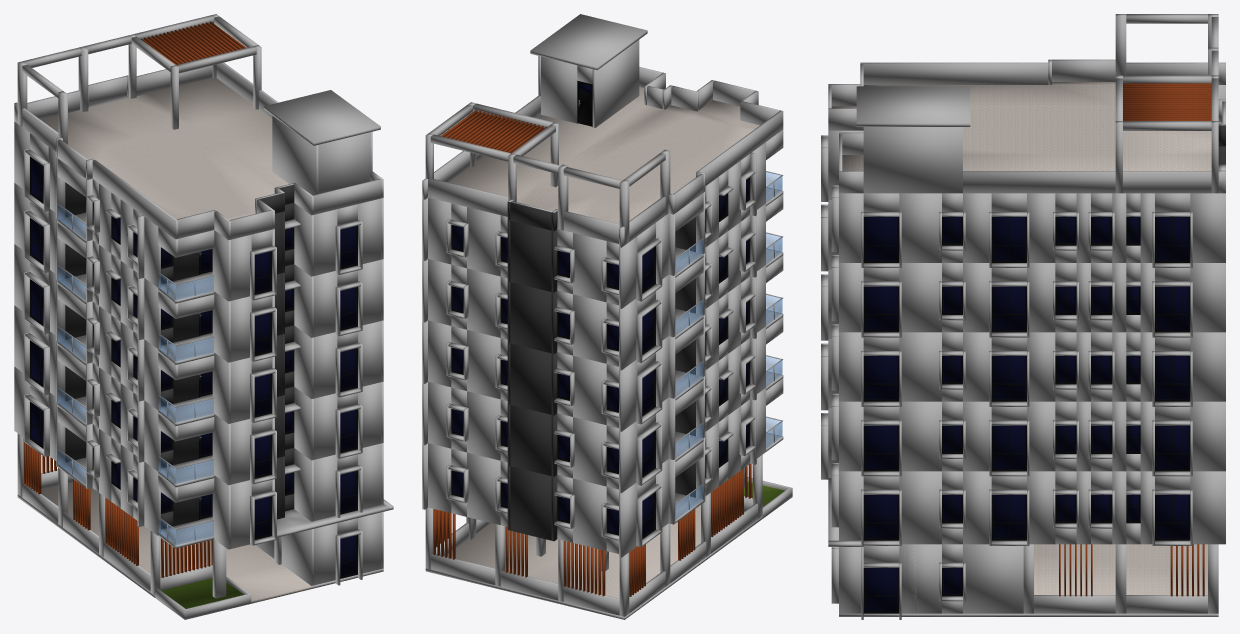
File: build.obj
The picture shows the model from 3 angles, left to right: view 1: azimuth 30°, elevation 25°; view 2: azimuth 150°, elevation 25°; view 3: azimuth 270°, elevation 25°; orthographic projection. The views are drawn at different scales.
Visible parts, largest first — view 1: WALL, ROOF_1, GROUND_FLOOR_1, WINDOW, BALCONY, LOUVER, DOOR, GROUND_FLOOR_2; view 2: WALL, ROOF_1, GROUND_FLOOR_1, LOUVER, WINDOW, BALCONY, ROOF_2; view 3: WALL, ROOF_1, WINDOW, GROUND_FLOOR_1, LOUVER, GROUND_FLOOR_2.
Part boxes in pixels (x1,y1,x2,y2): WALL: [14, 121, 383, 549]; ROOF_1: [14, 62, 383, 240]; GROUND_FLOOR_1: [17, 433, 393, 619]; WINDOW: [30, 156, 357, 539]; BALCONY: [57, 203, 214, 548]; LOUVER: [17, 14, 261, 577]; DOOR: [199, 249, 212, 519]; GROUND_FLOOR_2: [340, 535, 357, 578]; WALL: [422, 142, 765, 557]; ROOF_1: [422, 14, 783, 247]; GROUND_FLOOR_1: [425, 455, 792, 619]; LOUVER: [425, 102, 752, 596]; WINDOW: [451, 177, 750, 539]; BALCONY: [675, 130, 783, 523]; ROOF_2: [577, 80, 592, 126]; WALL: [821, 85, 1225, 546]; ROOF_1: [828, 59, 1225, 193]; WINDOW: [863, 217, 1190, 540]; GROUND_FLOOR_1: [828, 478, 1218, 619]; LOUVER: [1059, 14, 1218, 596]; GROUND_FLOOR_2: [863, 568, 962, 613].
Bounding box in the file's own units: 84.55 × 169 × 125.
Materials: 10 (4 with a texture image).
